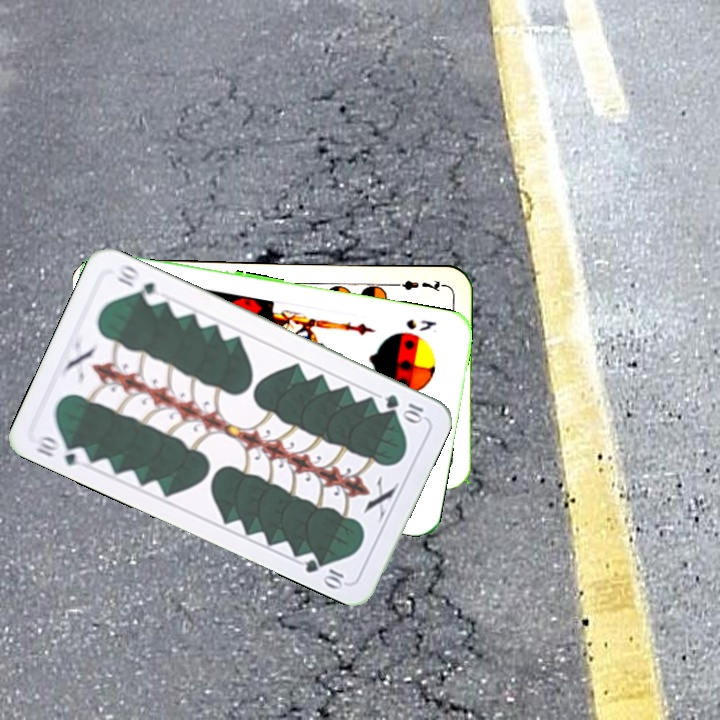E7: (387, 275, 446, 294)
G10: (31, 430, 91, 470), (381, 390, 427, 425)
SK: (402, 315, 439, 334)
